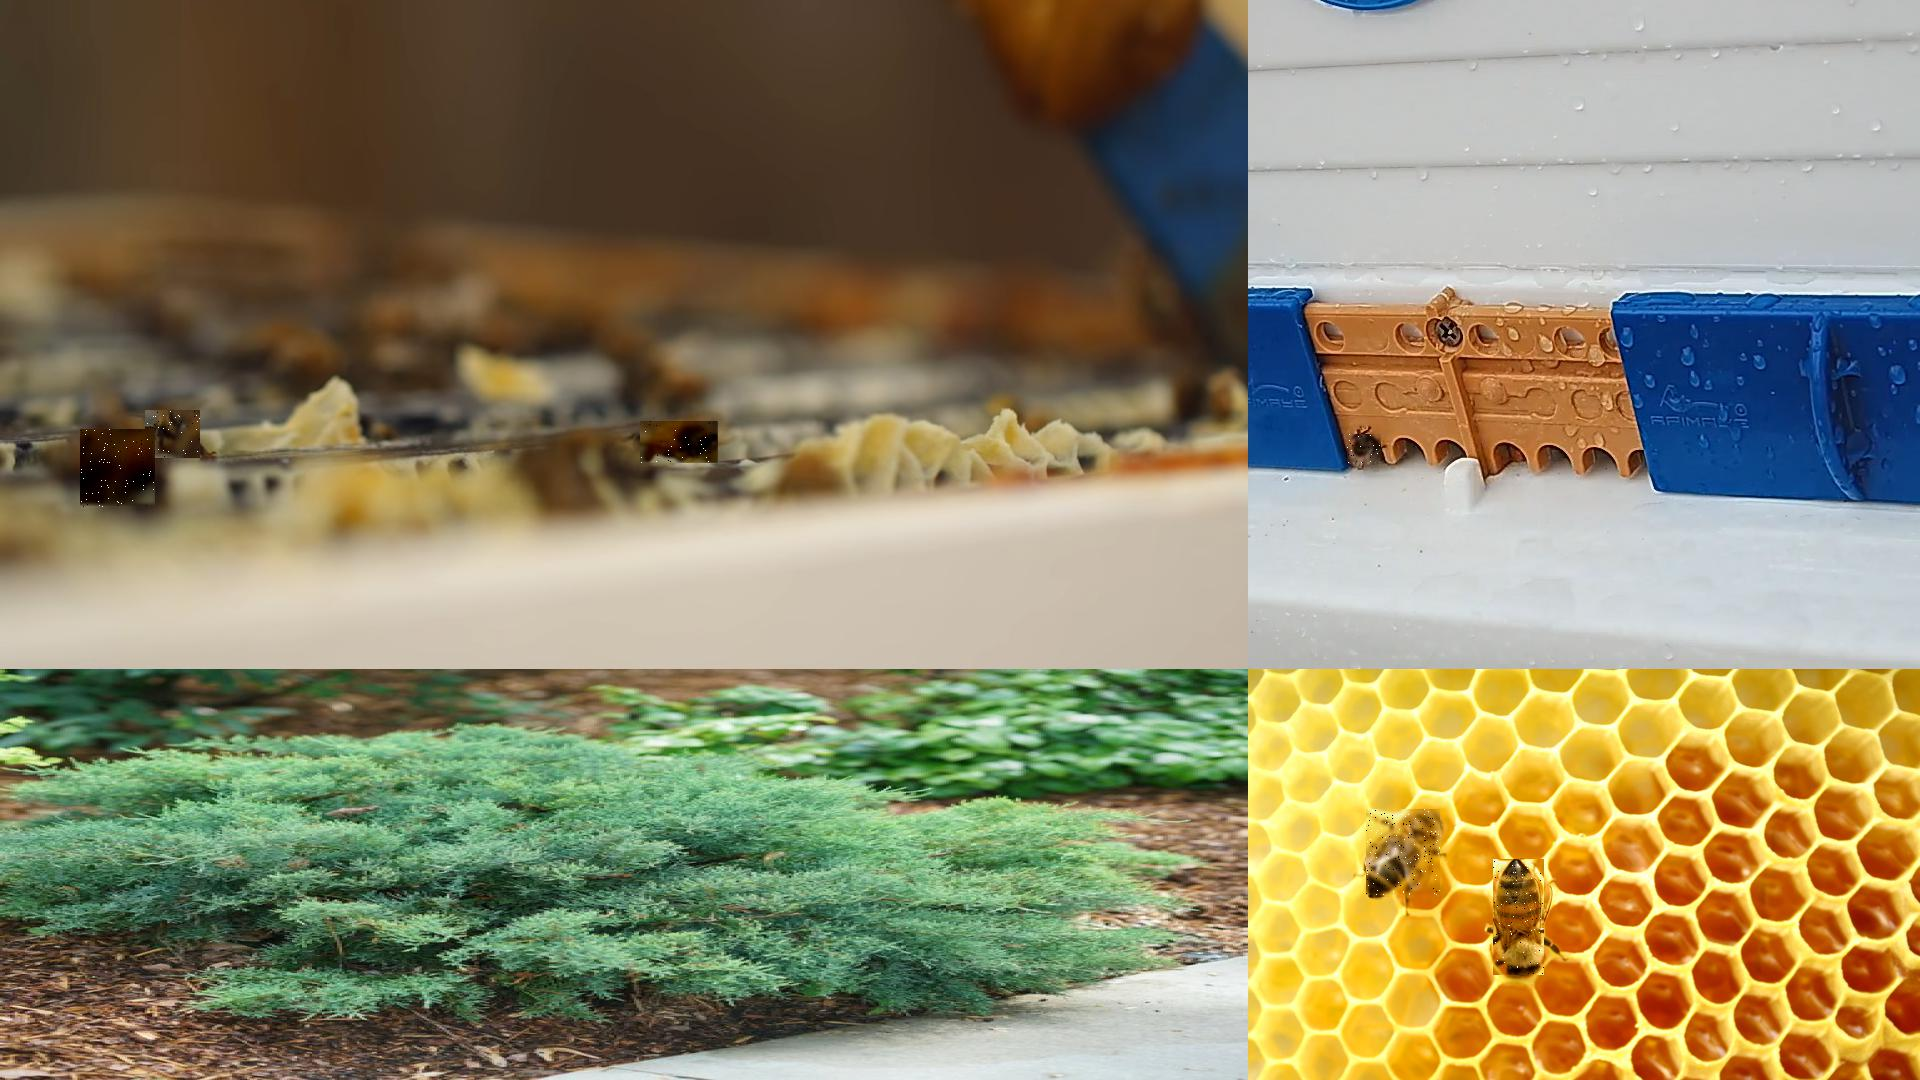bee: (1366, 810, 1441, 898), (1493, 858, 1545, 976), (80, 430, 156, 509), (640, 421, 719, 464), (145, 411, 202, 463), (1348, 435, 1382, 465)
